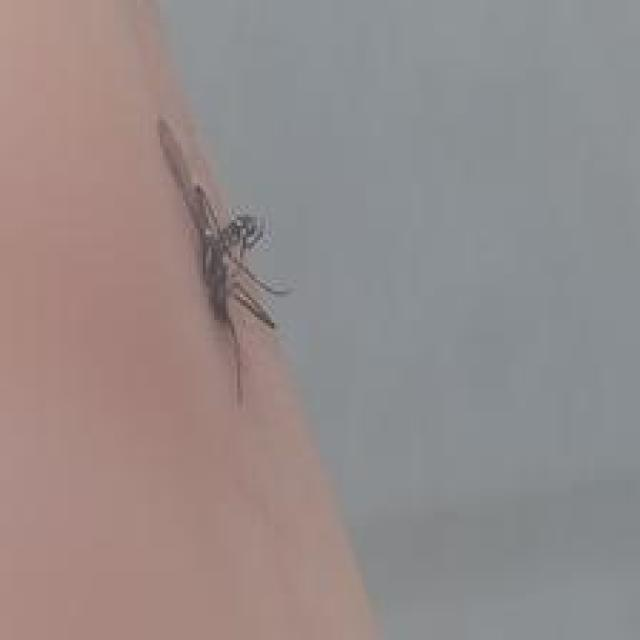Aedes albopictus: (154, 114, 292, 406)
